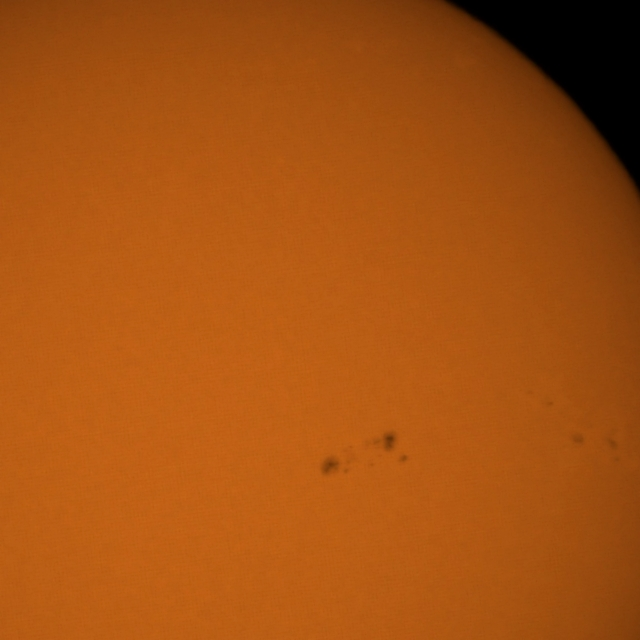sunspot: (365, 430, 408, 468), (319, 445, 354, 478), (608, 437, 622, 464), (571, 432, 586, 447)
